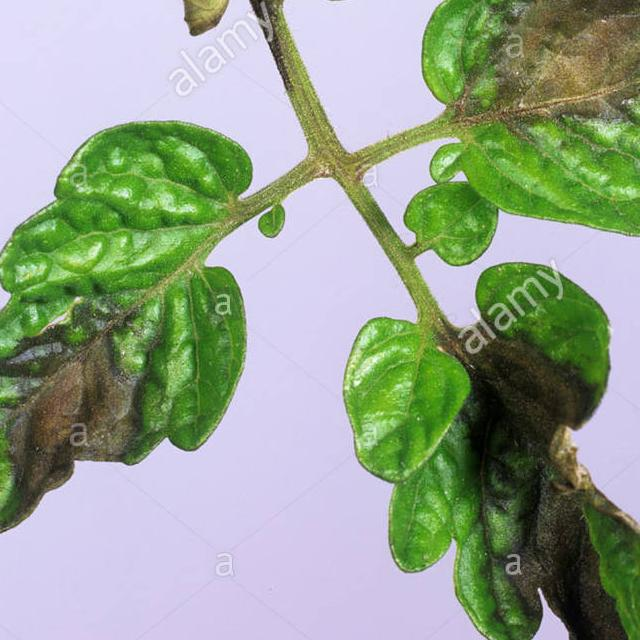Tomato leaf late blight: (0, 102, 281, 578), (328, 244, 640, 640), (408, 0, 640, 270)
